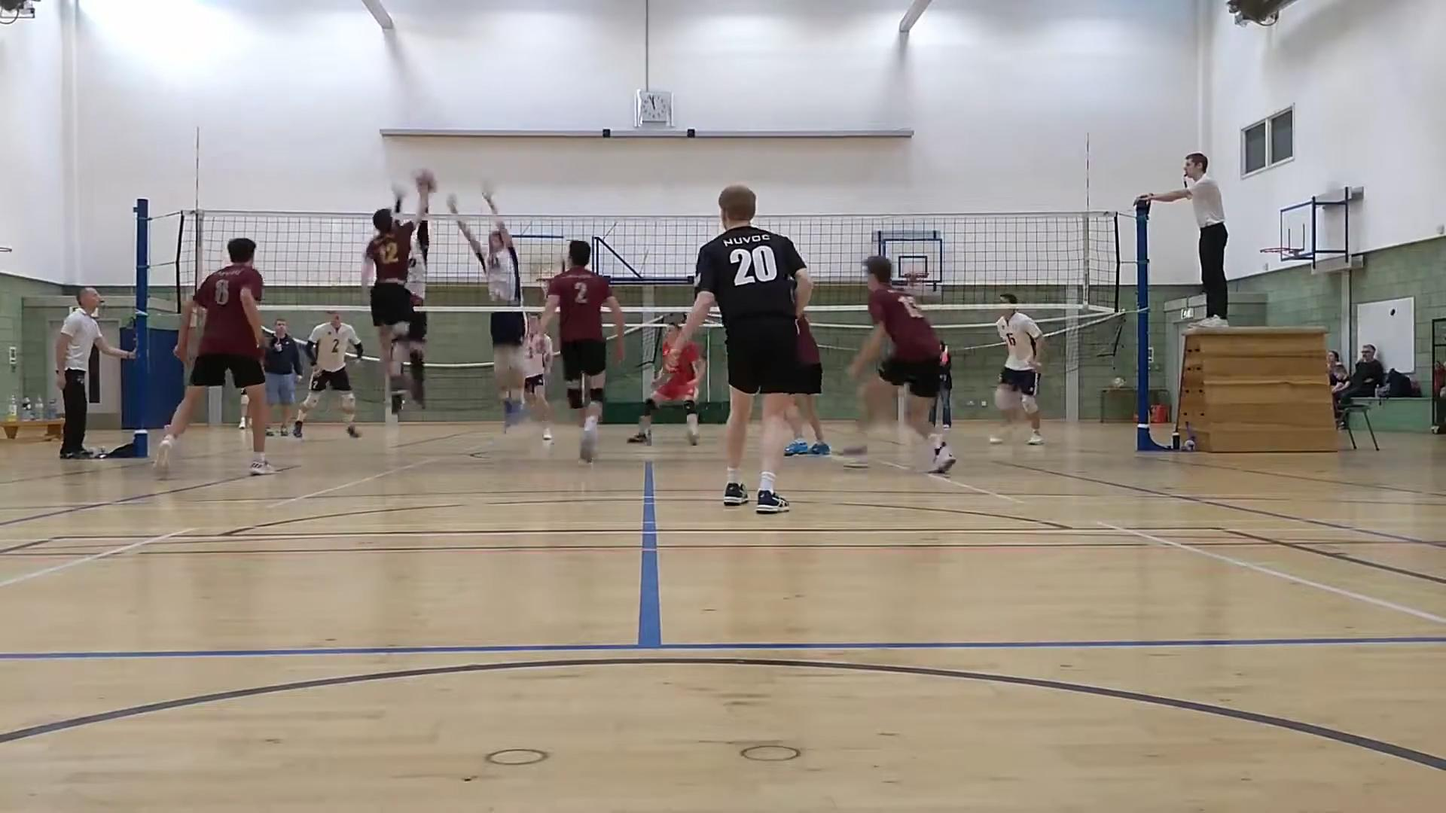Attack: (362, 181, 432, 420)
Block: (389, 164, 439, 425)
Player: (670, 185, 813, 513), (154, 238, 273, 475), (442, 174, 539, 430), (850, 256, 955, 473), (538, 240, 624, 461), (291, 312, 362, 437), (990, 294, 1043, 445), (628, 342, 702, 445), (785, 315, 831, 455), (520, 314, 554, 443)
ball: (407, 168, 440, 192)
